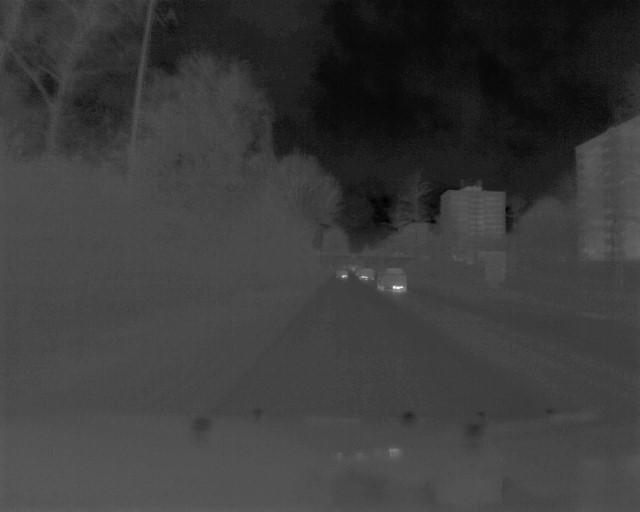car: (376, 266, 409, 296)
